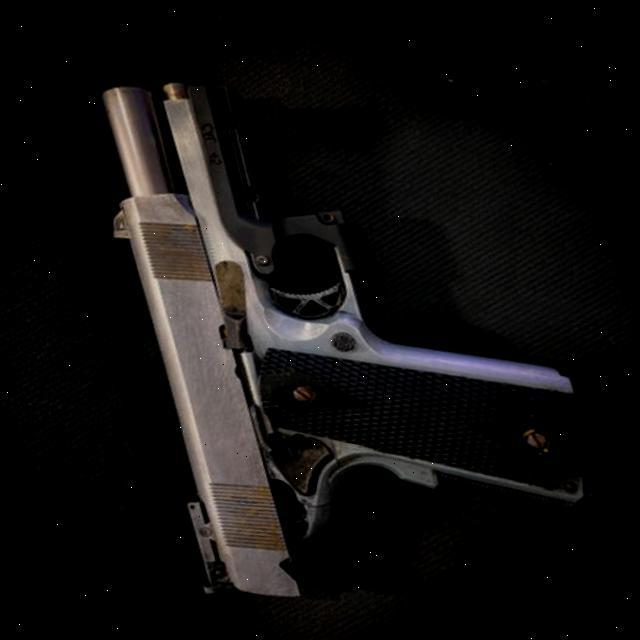gun: (15, 66, 640, 640)
